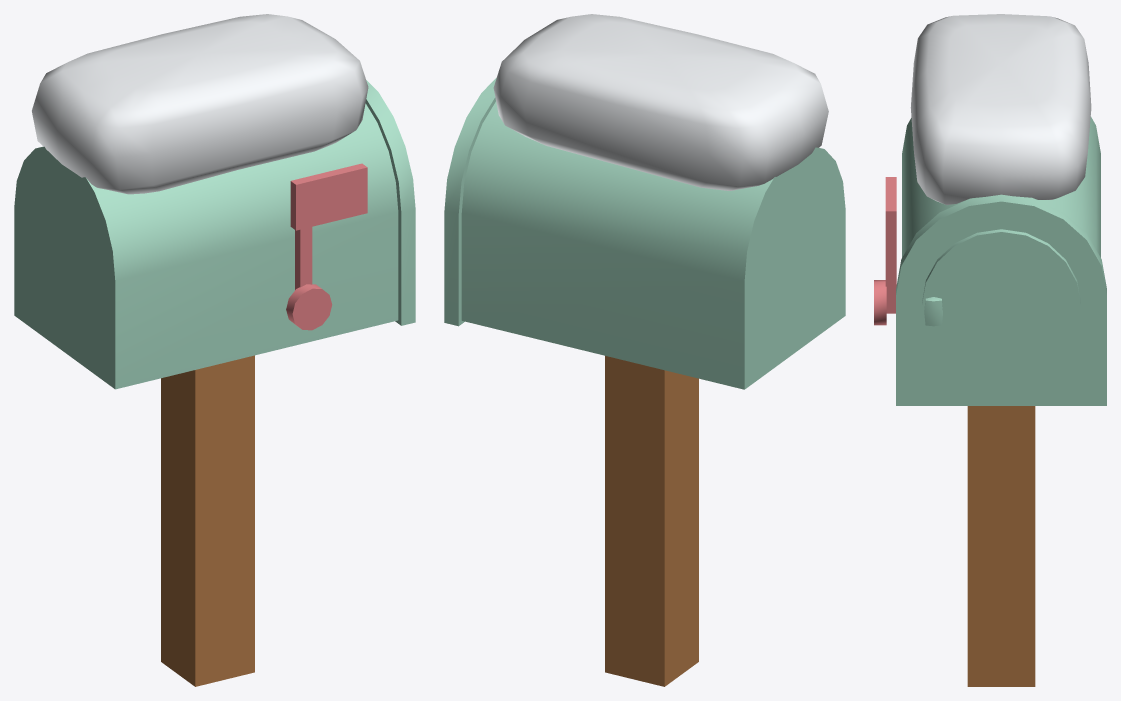
File: SnowyMailbox.glb
The picture shows the model from 3 angles, left to right: view 1: azimuth 30°, elevation 25°; view 2: azimuth 150°, elevation 25°; view 3: azimuth 270°, elevation 25°; orthographic projection.
Parts seen in each view (by area): view 1: SnowyMailbox; view 2: SnowyMailbox; view 3: SnowyMailbox.
Boxes of the visible parts, bbox=[...] form: SnowyMailbox: bbox=[14, 14, 415, 686]; SnowyMailbox: bbox=[444, 14, 845, 686]; SnowyMailbox: bbox=[874, 14, 1106, 686].
Bounding box in the file's own units: 4 × 7.4 × 2.58.
Materials: 1 (1 with a texture image).
